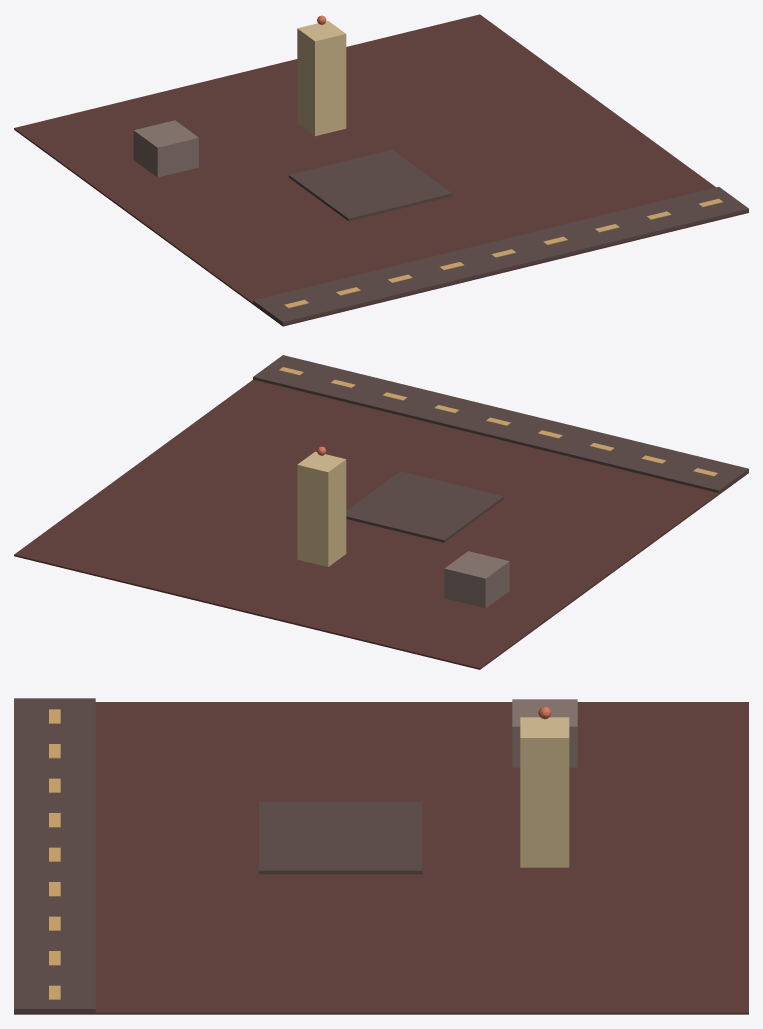
Rendered from stage_03.glb.
3 views of the same model, one above another, from view 1: azimuth 30°, elevation 25°; view 2: azimuth 150°, elevation 25°; view 3: azimuth 270°, elevation 25° (orthographic). The views are drawn at different scales.
Parts seen in each view (by area): view 1: geometry_0; view 2: geometry_0; view 3: geometry_0.
Boxes of the visible parts, x1,y1,x2,y2 form: geometry_0: (14, 14, 748, 326); geometry_0: (14, 355, 748, 669); geometry_0: (14, 698, 748, 1014).
Bounding box in the file's own units: 9 × 2.06 × 9.
